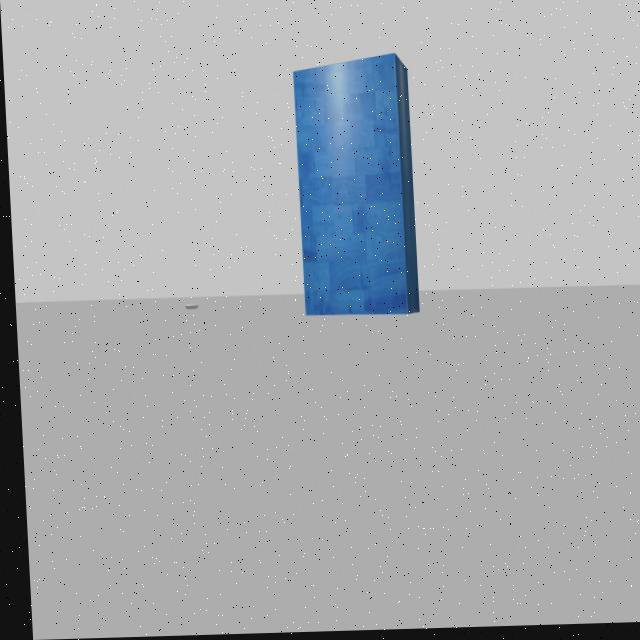bowl: (170, 296, 204, 317)
shelf: (281, 37, 426, 338)
